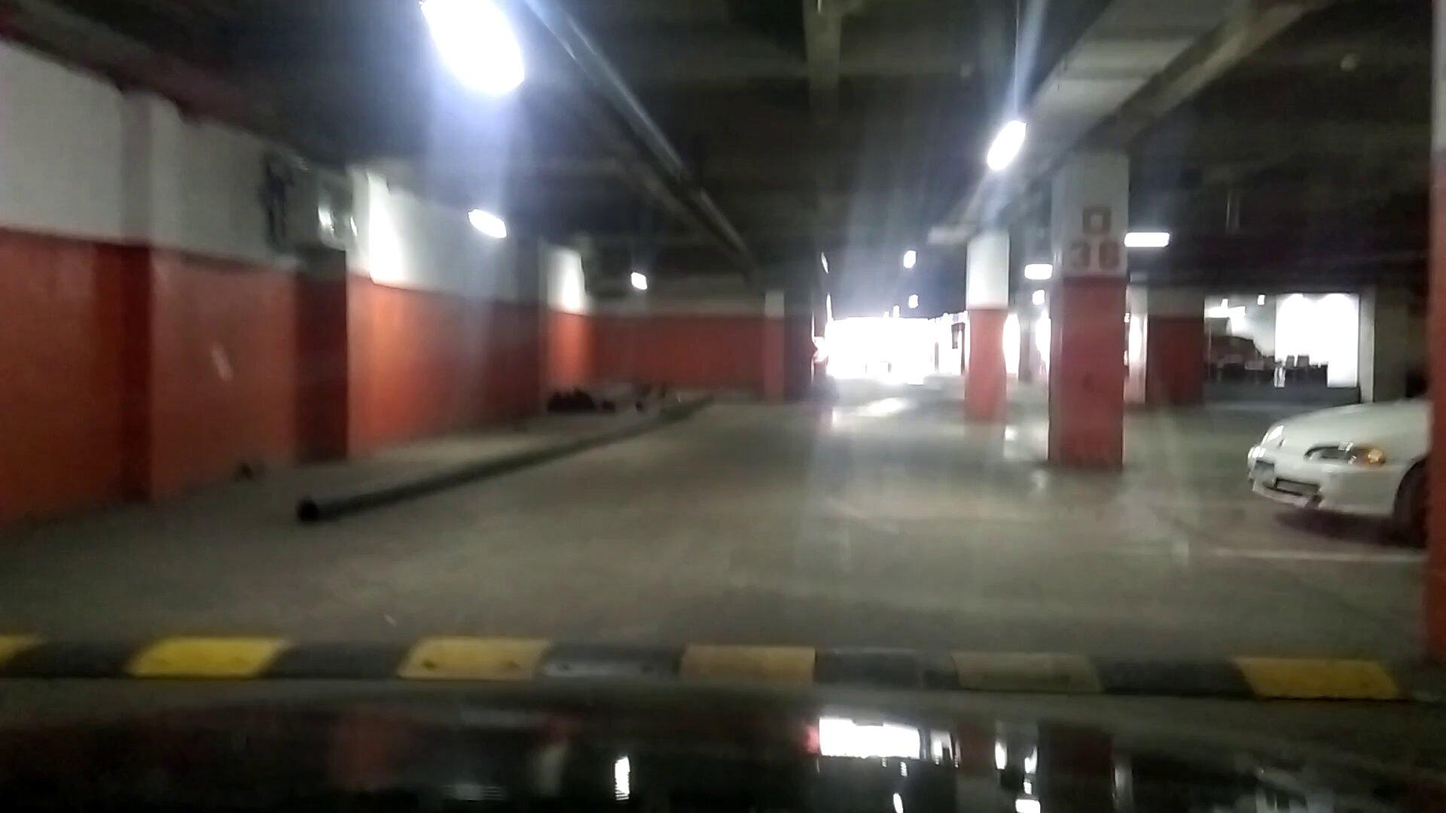Bump: (4, 619, 1440, 715)
